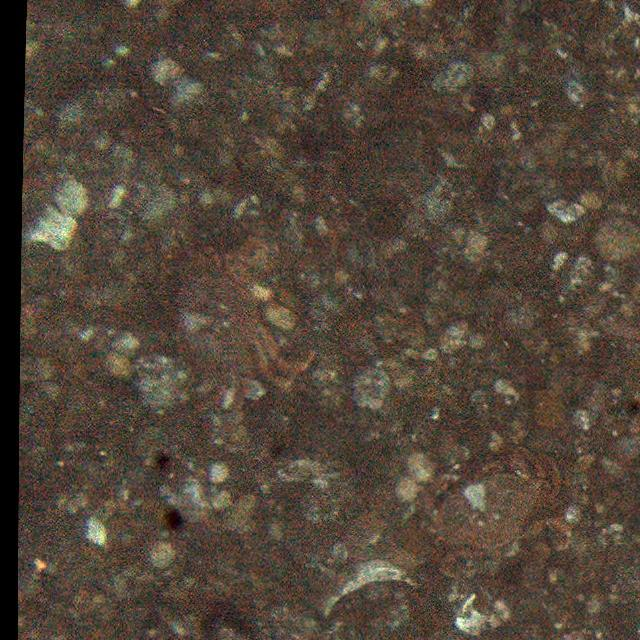crab: (414, 446, 584, 565), (178, 238, 310, 389)
